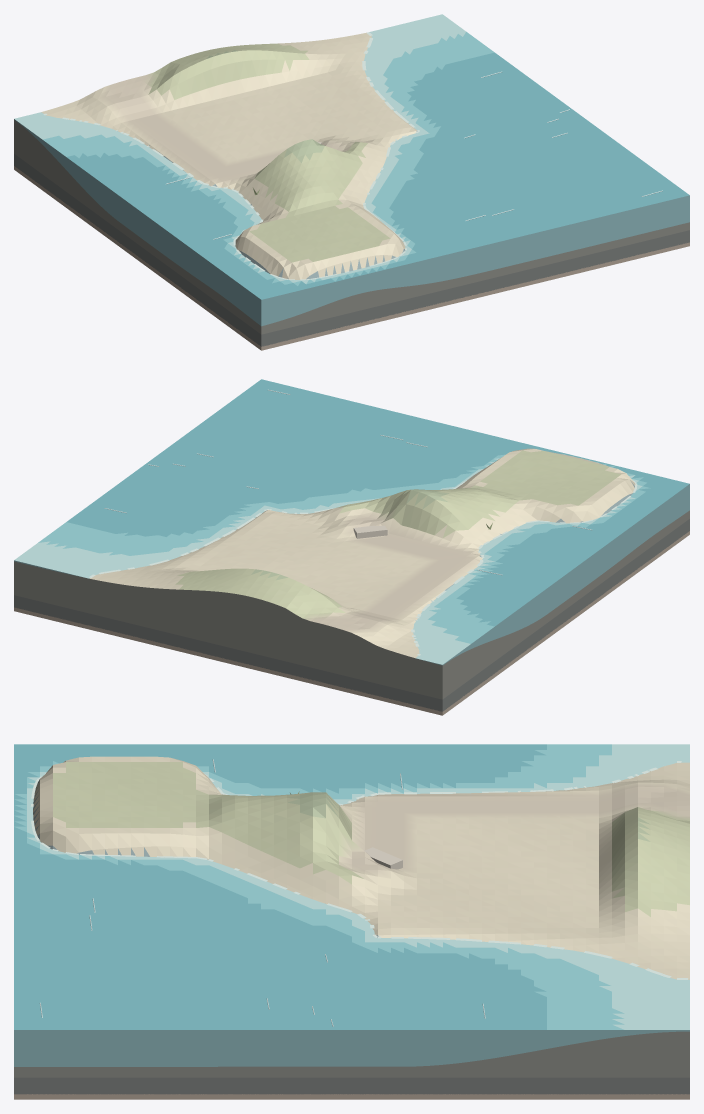
3 views of the same model, one above another, from view 1: azimuth 30°, elevation 25°; view 2: azimuth 150°, elevation 25°; view 3: azimuth 270°, elevation 25° (orthographic). The views are drawn at different scales.
Parts seen in each view (by area): view 1: proc_water, proc_ground, proc_skirt, proc_water_side, proc_foam; view 2: proc_water, proc_ground, proc_skirt, proc_water_side, proc_foam; view 3: proc_water, proc_ground, proc_skirt, proc_water_side, proc_foam.
Part boxes in pixels (x1,y1,x2,y2): proc_water: [14, 14, 689, 299]; proc_ground: [41, 32, 417, 279]; proc_skirt: [14, 120, 689, 350]; proc_water_side: [14, 119, 689, 326]; proc_foam: [43, 32, 419, 280]; proc_water: [14, 379, 689, 664]; proc_ground: [90, 448, 635, 658]; proc_skirt: [14, 510, 689, 715]; proc_water_side: [14, 484, 689, 665]; proc_foam: [89, 480, 637, 655]; proc_water: [14, 744, 689, 1029]; proc_ground: [33, 756, 689, 979]; proc_skirt: [14, 1031, 689, 1099]; proc_water_side: [14, 1030, 689, 1066]; proc_foam: [31, 761, 688, 979].
Bounding box in the file's own units: 8 × 1.57 × 8.
